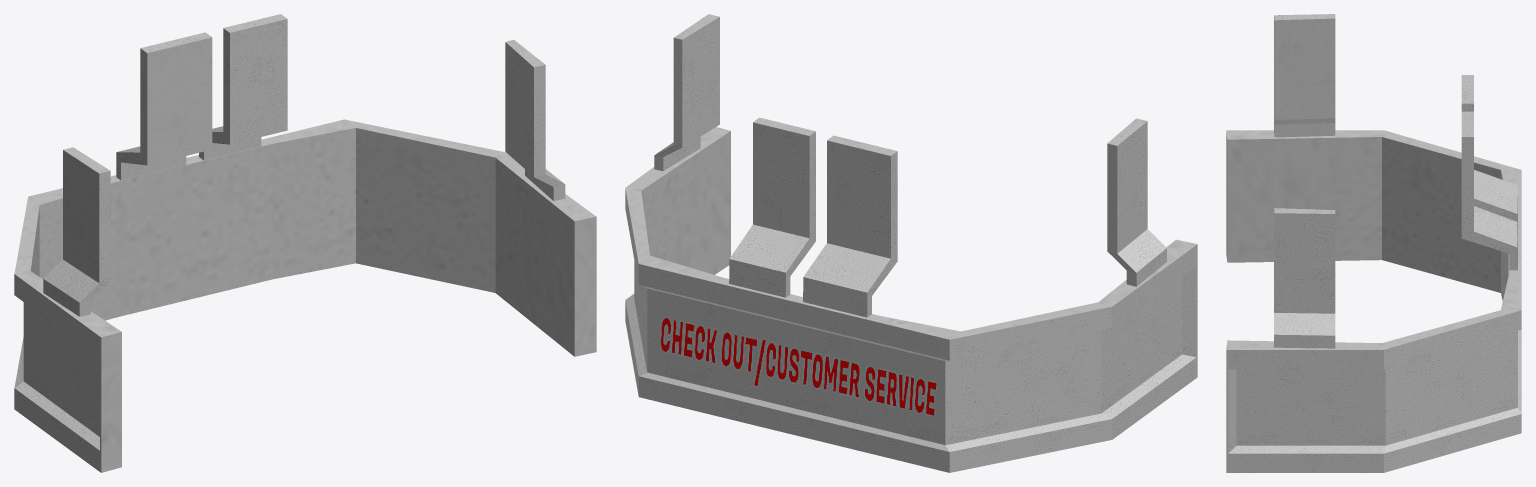
Rendered from overhang_EMBED.fbx.
3 renders of one model, left to right at view 1: azimuth 30°, elevation 25°; view 2: azimuth 150°, elevation 25°; view 3: azimuth 270°, elevation 25°, orthographic. The views are drawn at different scales.
Parts seen in each view (by area): view 1: Overhang; view 2: Overhang; view 3: Overhang.
Part boxes in pixels (box(x1,y1,x2,y2)): Overhang: box(14, 14, 596, 472); Overhang: box(625, 14, 1197, 472); Overhang: box(1226, 14, 1521, 472).
Size of the model in its own units: 2767 by 1506 by 1574.
Materials: 1 (1 with a texture image).
